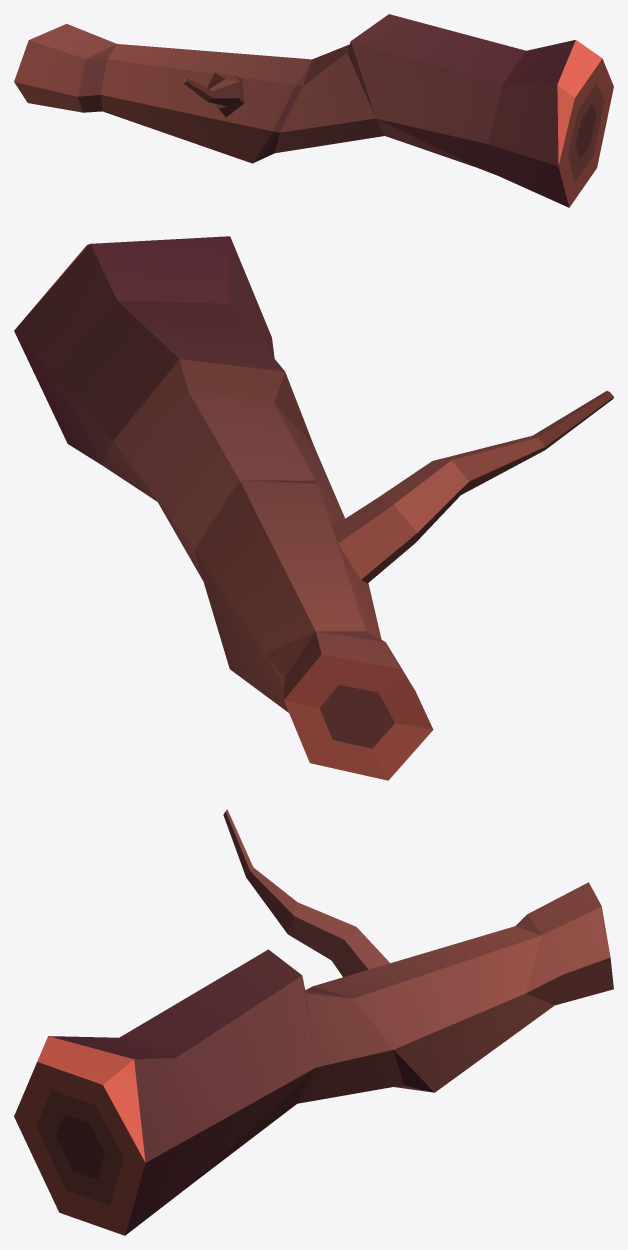
The model's file is pine10.glb.
3 renders of one model, top to bottom at view 1: azimuth 30°, elevation 25°; view 2: azimuth 150°, elevation 25°; view 3: azimuth 270°, elevation 25°, orthographic. The views are drawn at different scales.
Visible parts, largest first — view 1: pine10; view 2: pine10; view 3: pine10.
Part boxes in pixels (x1,y1,x2,y2): pine10: [14, 14, 613, 207]; pine10: [14, 236, 613, 780]; pine10: [14, 809, 613, 1235].
Size of the model in its own units: 3.7 by 1.32 by 3.52.
1 material, 1 textured.
